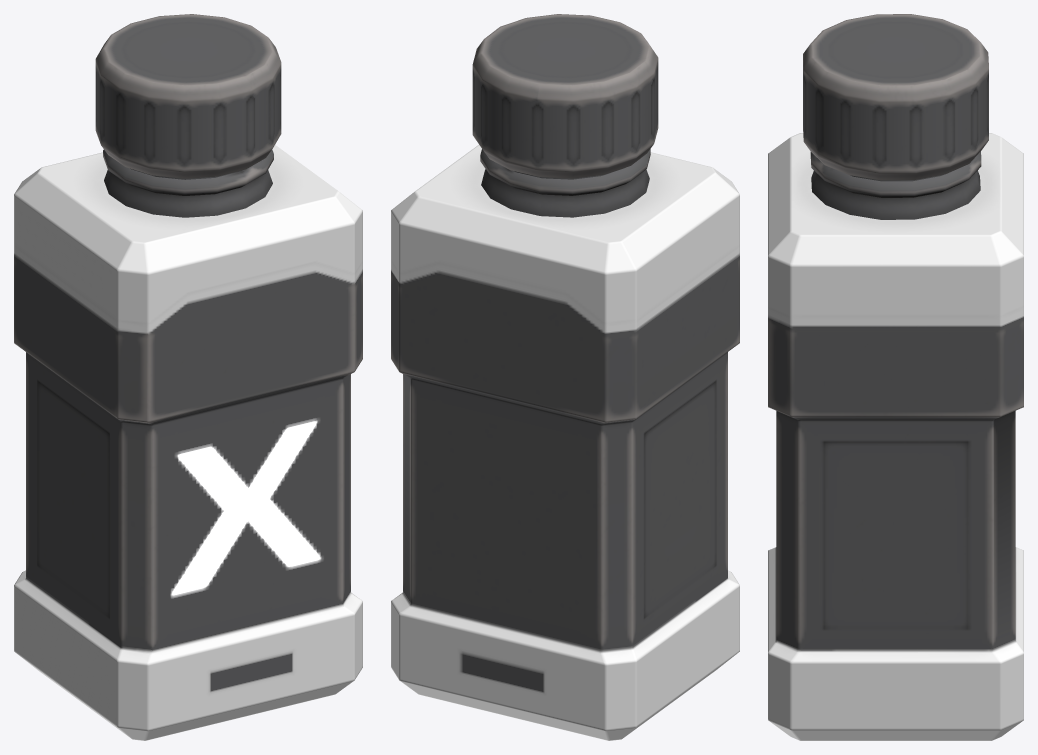
Rendered from SciFiMedPack01_2.FBX.
3 views of the same model, side by side, from view 1: azimuth 30°, elevation 25°; view 2: azimuth 150°, elevation 25°; view 3: azimuth 270°, elevation 25° (orthographic).
Parts seen in each view (by area): view 1: SciFiMedPack01_2, Cap2; view 2: SciFiMedPack01_2, Cap2; view 3: SciFiMedPack01_2, Cap2.
Boxes of the visible parts, <box> form: SciFiMedPack01_2: <box>14,145,362,740</box>; Cap2: <box>95,14,281,178</box>; SciFiMedPack01_2: <box>391,145,739,740</box>; Cap2: <box>472,14,658,178</box>; SciFiMedPack01_2: <box>768,133,1023,740</box>; Cap2: <box>803,14,988,180</box>.
Size of what is drawn, in the model's own units: 0.0836 by 0.2051 by 0.0744.
